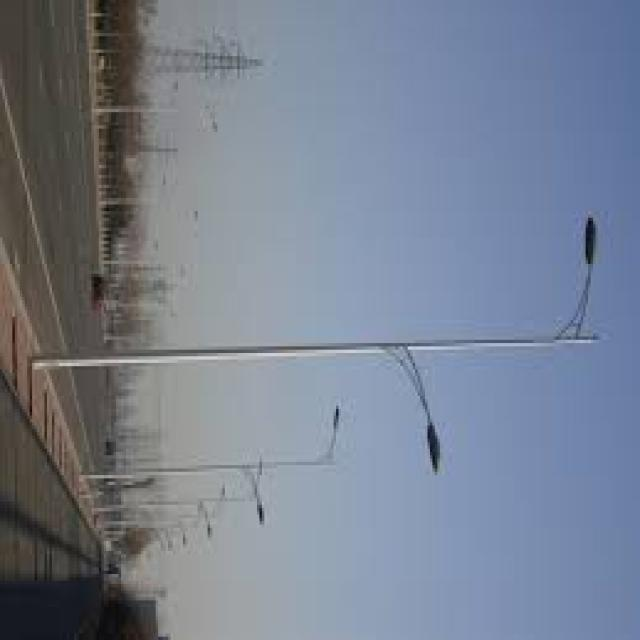Street Light: (25, 218, 610, 468), (74, 402, 339, 524), (84, 452, 264, 524)
